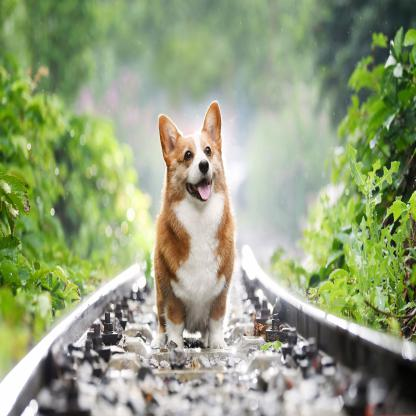Korgi: (154, 99, 236, 352)
